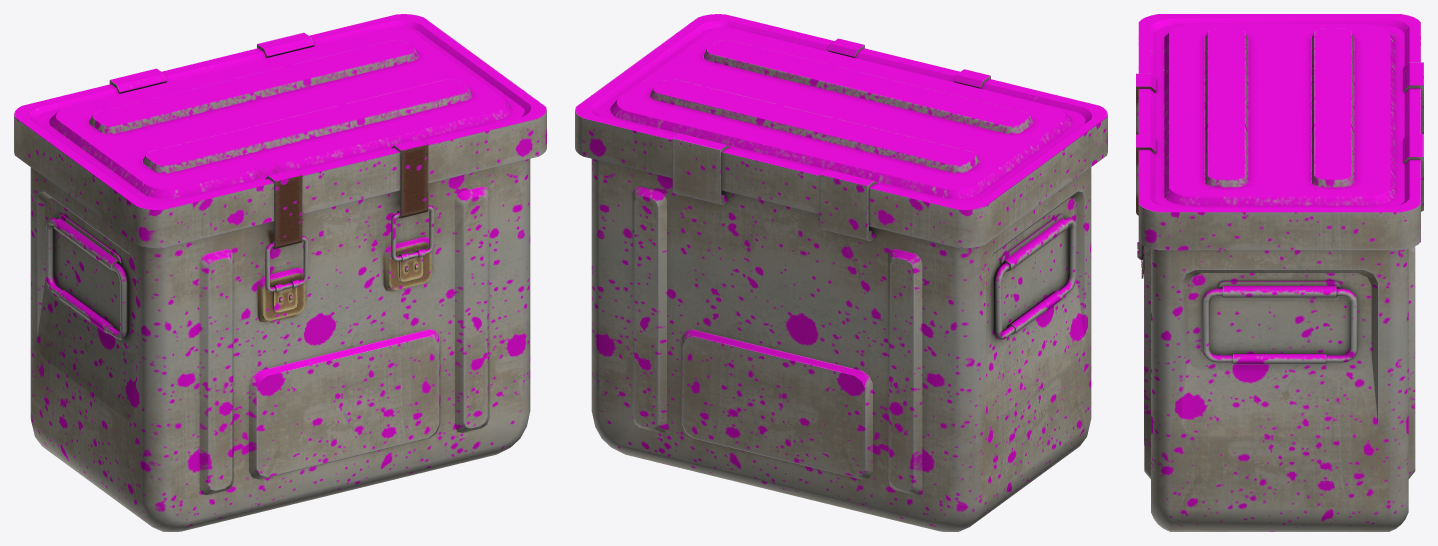
Rendered from ammo_box.glb.
The picture shows the model from 3 angles, left to right: view 1: azimuth 30°, elevation 25°; view 2: azimuth 150°, elevation 25°; view 3: azimuth 270°, elevation 25°; orthographic projection.
Parts seen in each view (by area): view 1: Object_2; view 2: Object_2; view 3: Object_2.
Part boxes in pixels (x1,y1,x2,y2): Object_2: [14, 14, 546, 531]; Object_2: [575, 14, 1107, 531]; Object_2: [1136, 14, 1423, 531].
Size of the model in its own units: 15.39 by 12.59 by 9.43.
1 material, 1 textured.
